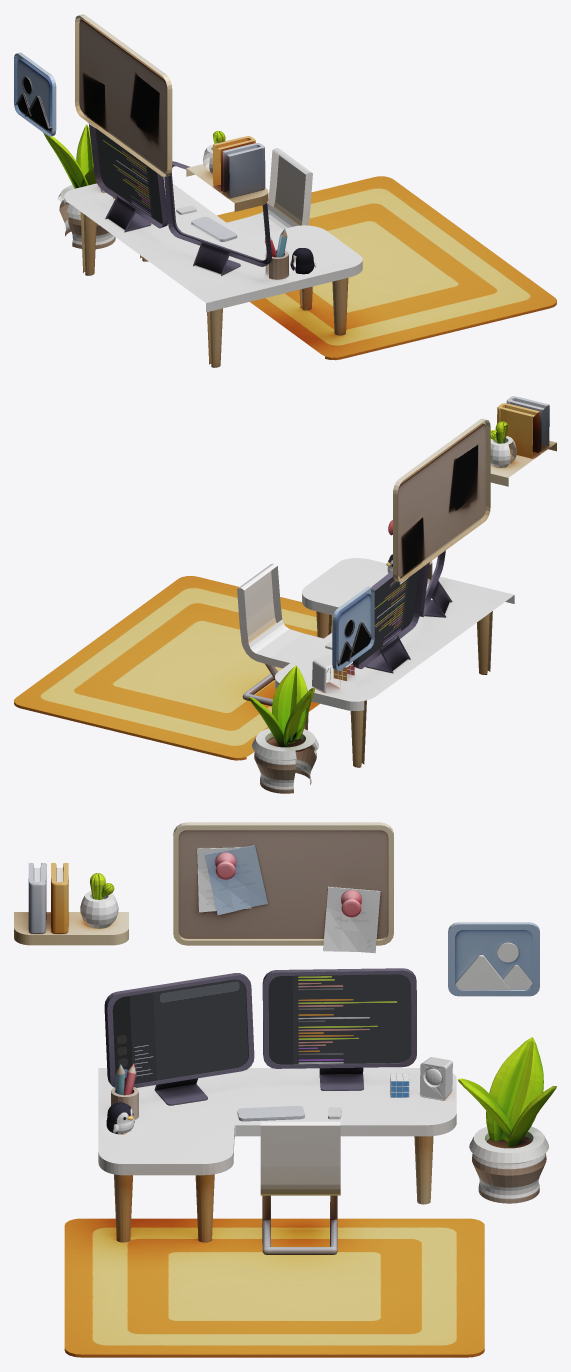
File: room.glb
3 views of the same model, one above another, from view 1: azimuth 30°, elevation 25°; view 2: azimuth 150°, elevation 25°; view 3: azimuth 270°, elevation 25° (orthographic). The views are drawn at different scales.
Parts seen in each view (by area): view 1: room-base, blackboard, shelving, chair, desktop-plane-0, picture, plant, penguin; view 2: room-base, blackboard, plant, chair, shelving, picture, desktop-plane-0, speaker; view 3: room-base, blackboard, desktop-plane-0, desktop-plane-1, plant, chair, picture, shelving, speaker, penguin.
Part boxes in pixels (x1=…): room-base: x1=64, y1=124, x2=556, y2=367; blackboard: x1=75, y1=14, x2=172, y2=176; shelving: x1=186, y1=131, x2=268, y2=211; chair: x1=227, y1=148, x2=312, y2=237; desktop-plane-0: x1=95, y1=128, x2=162, y2=223; picture: x1=14, y1=52, x2=56, y2=136; plant: x1=43, y1=124, x2=115, y2=249; penguin: x1=291, y1=248, x2=314, y2=274; room-base: x1=14, y1=550, x2=514, y2=767; blackboard: x1=388, y1=418, x2=490, y2=584; plant: x1=249, y1=665, x2=318, y2=793; chair: x1=237, y1=563, x2=323, y2=706; shelving: x1=490, y1=396, x2=556, y2=486; picture: x1=332, y1=586, x2=374, y2=670; desktop-plane-0: x1=358, y1=570, x2=418, y2=663; speaker: x1=312, y1=654, x2=341, y2=692; room-base: x1=64, y1=968, x2=484, y2=1357; blackboard: x1=173, y1=822, x2=393, y2=953; desktop-plane-0: x1=268, y1=974, x2=411, y2=1064; desktop-plane-1: x1=112, y1=979, x2=248, y2=1084; plant: x1=458, y1=1037, x2=556, y2=1203; chair: x1=260, y1=1121, x2=340, y2=1254; picture: x1=448, y1=922, x2=539, y2=996; shelving: x1=14, y1=862, x2=128, y2=945; speaker: x1=419, y1=1057, x2=452, y2=1100; penguin: x1=106, y1=1102, x2=133, y2=1134.
Size of the model in its own units: 7.29 by 5.51 by 8.18.
Materials: 4 (4 with a texture image).
